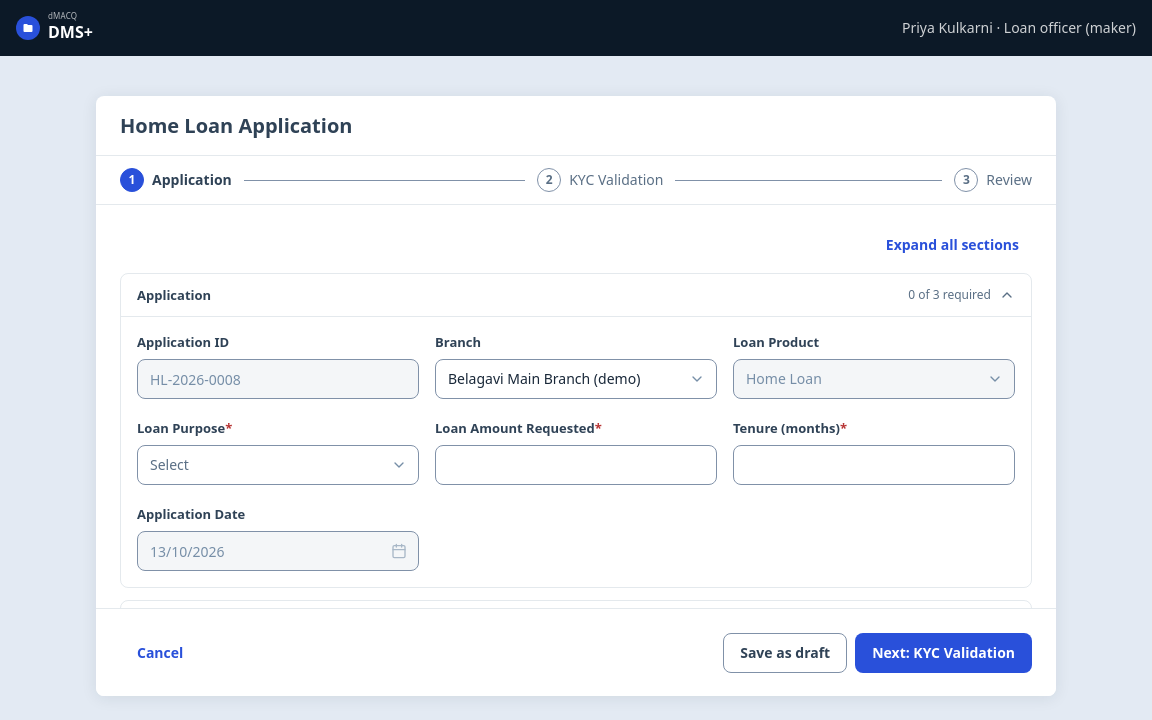
Test: Step 1 sections › has the fields of 6.1 to 6.3 with the right required marks
Click the button "Expand all sections": (952, 245) [873,229,1032,261]
(page scrolled)
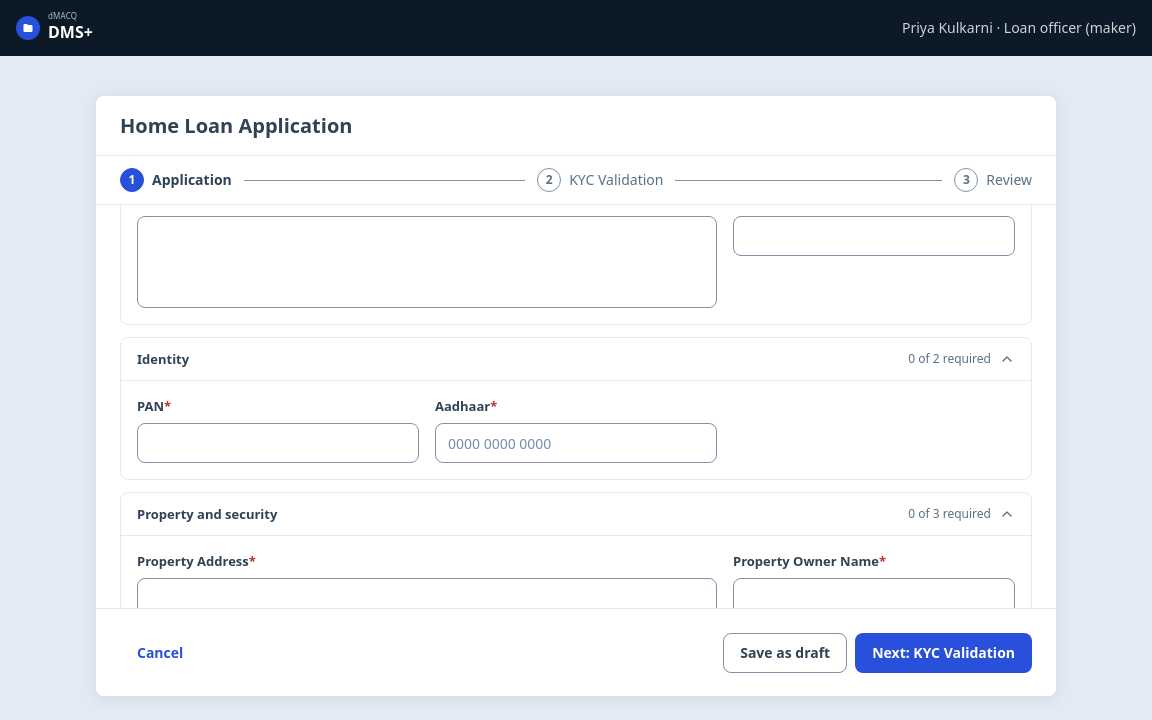
Expected: the text "PAN" shows "*", [164,397,171,415]
Expected: the text "Aadhaar" shows "*", [490,397,497,415]
